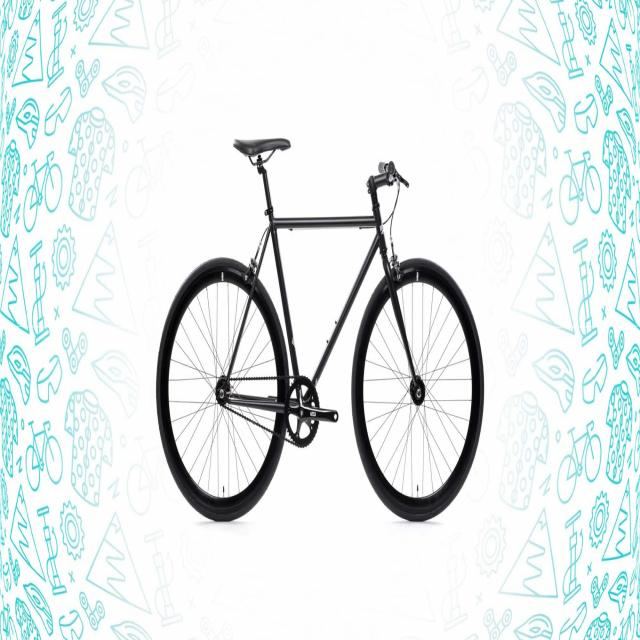bicycle: (151, 89, 493, 556)
